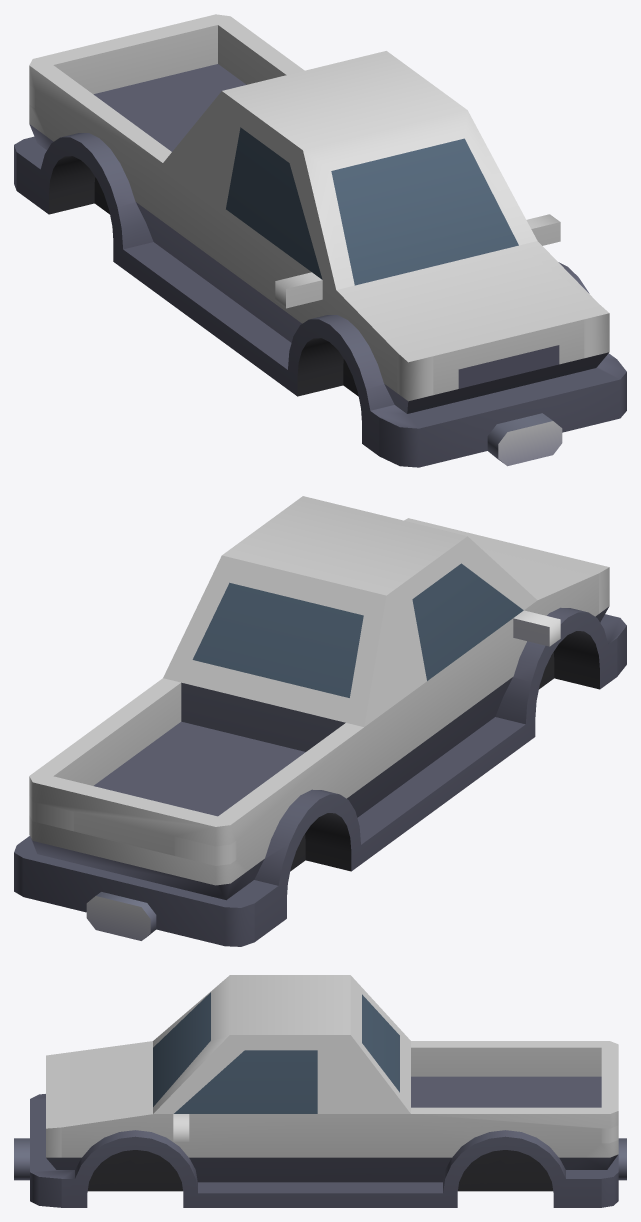
File: pickup.glb
3 renders of one model, top to bottom at view 1: azimuth 30°, elevation 25°; view 2: azimuth 150°, elevation 25°; view 3: azimuth 270°, elevation 25°, orthographic. The views are drawn at different scales.
Parts seen in each view (by area): view 1: paint, trim, glass, light_head; view 2: paint, trim, glass, light_tail; view 3: paint, trim, glass, light_head.
Part boxes in pixels (x1,y1,x2,y2): paint: (29,14,609,394); trim: (14,64,626,467); glass: (226,127,518,285); light_head: (397,313,609,401); paint: (29,496,609,885); trim: (14,607,626,946); glass: (192,563,523,697); light_tail: (29,796,236,865); paint: (46,975,618,1157); trim: (14,1076,626,1207); glass: (153,992,399,1113); light_head: (46,1127,61,1157).
Size of the model in its own units: 2.04 by 1.59 by 5.3.
